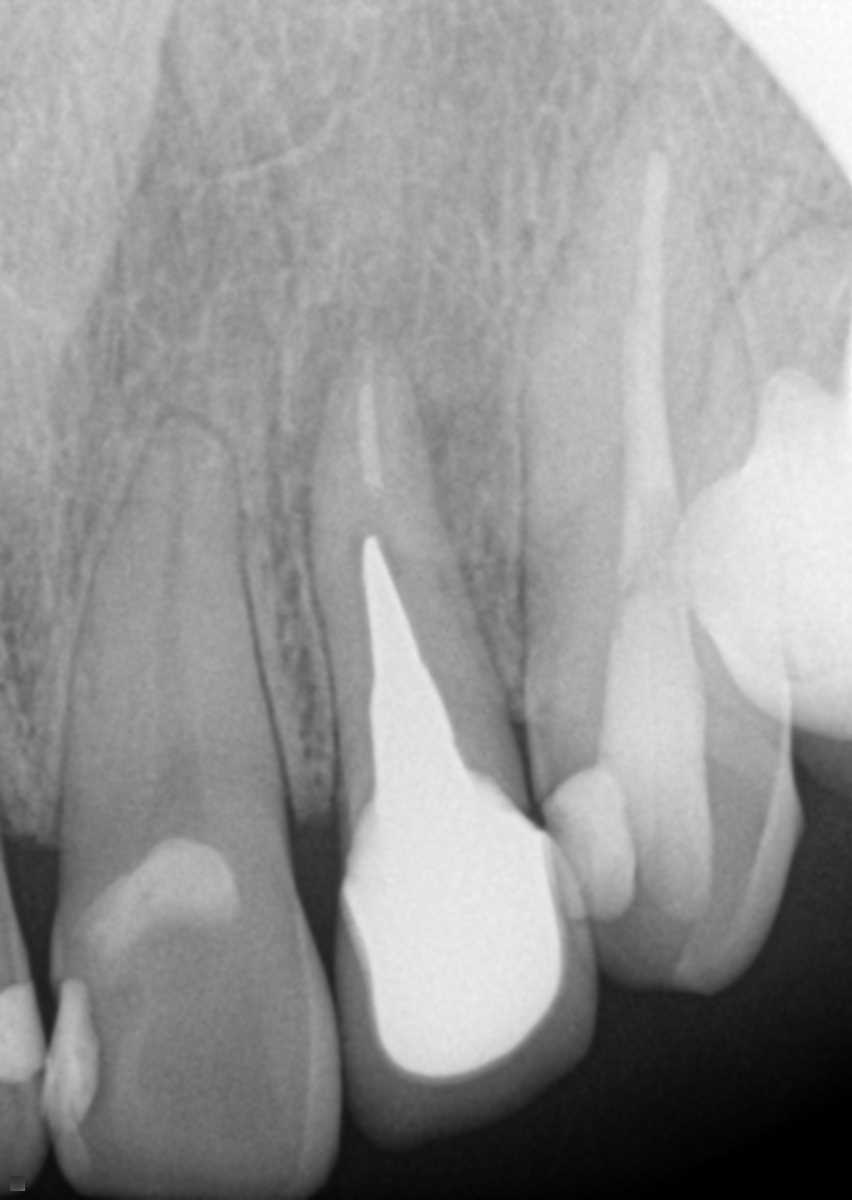Apical Lesion: (259, 230, 513, 612)
Main Root: (517, 66, 787, 695), (58, 416, 284, 859), (305, 342, 516, 805)
Root Canal Filling: (609, 143, 701, 695), (143, 429, 207, 842), (355, 359, 378, 487)
